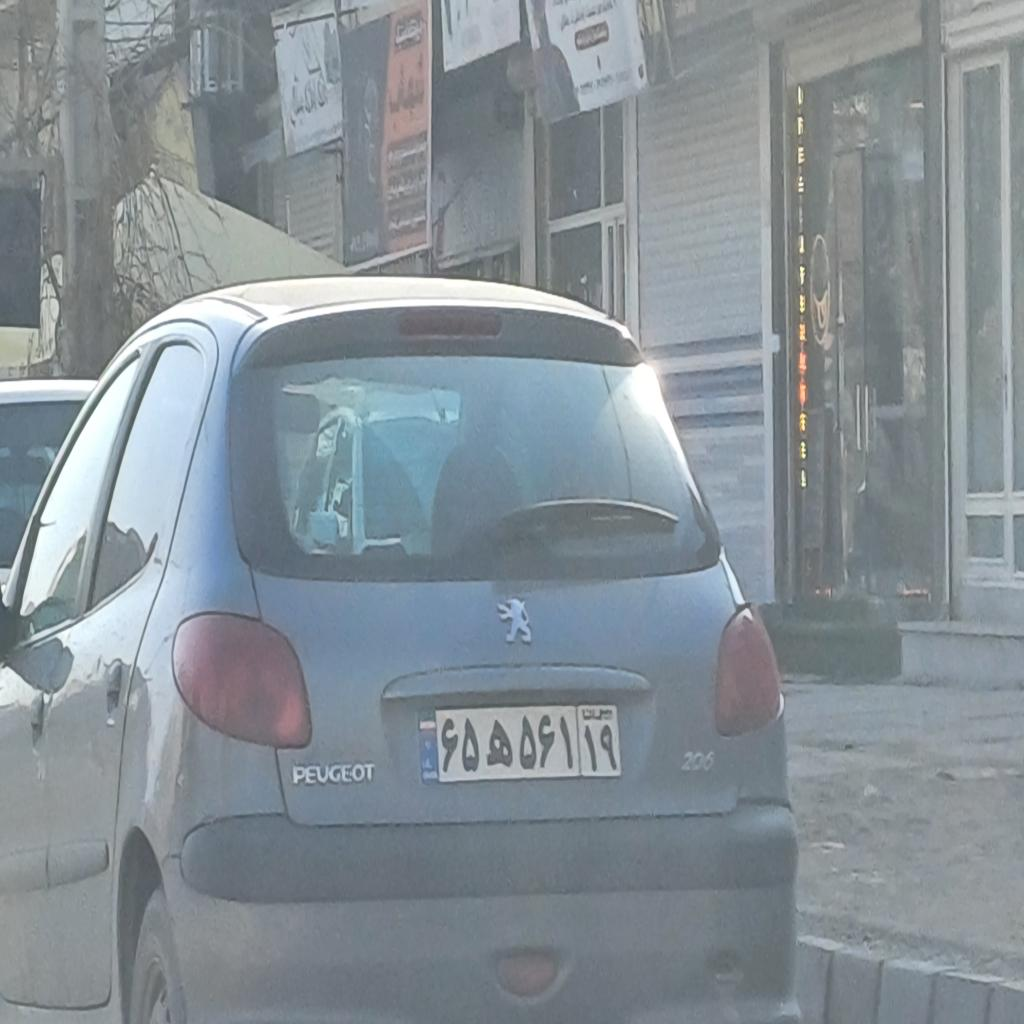Plates: (417, 705, 623, 782)
